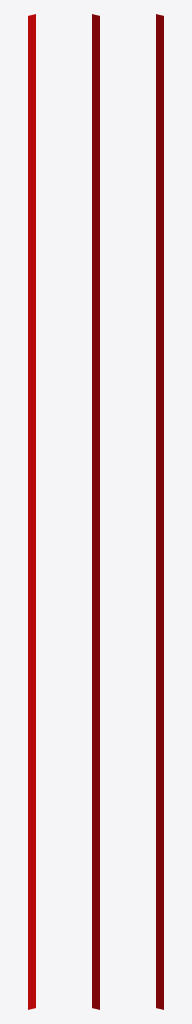
File: SpearHair.fbx
3 views of the same model, side by side, from view 1: azimuth 30°, elevation 25°; view 2: azimuth 150°, elevation 25°; view 3: azimuth 330°, elevation 25° (orthographic).
Parts seen in each view (by area): view 1: SpearHair; view 2: SpearHair; view 3: SpearHair.
Part boxes in pixels (x1,y1,x2,y2): SpearHair: (28,14,35,1009); SpearHair: (92,14,99,1009); SpearHair: (156,14,163,1009).
Bounding box in the file's own units: 0.5 × 60 × 0.
